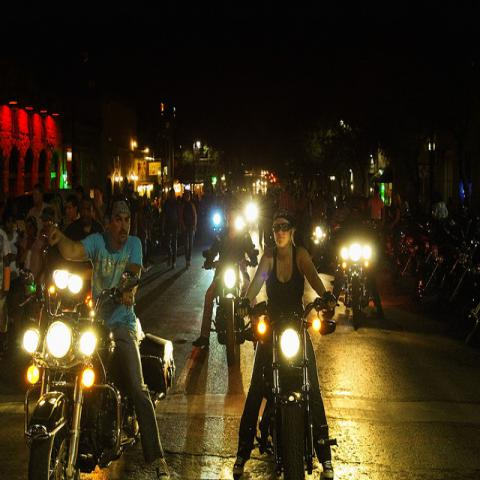motorcycle: (26, 232, 175, 474), (247, 299, 326, 474), (214, 253, 260, 370), (416, 221, 479, 303), (405, 217, 463, 290), (436, 217, 480, 308), (338, 241, 376, 318), (392, 219, 436, 285), (309, 221, 341, 274), (464, 268, 479, 347), (381, 231, 403, 259)
